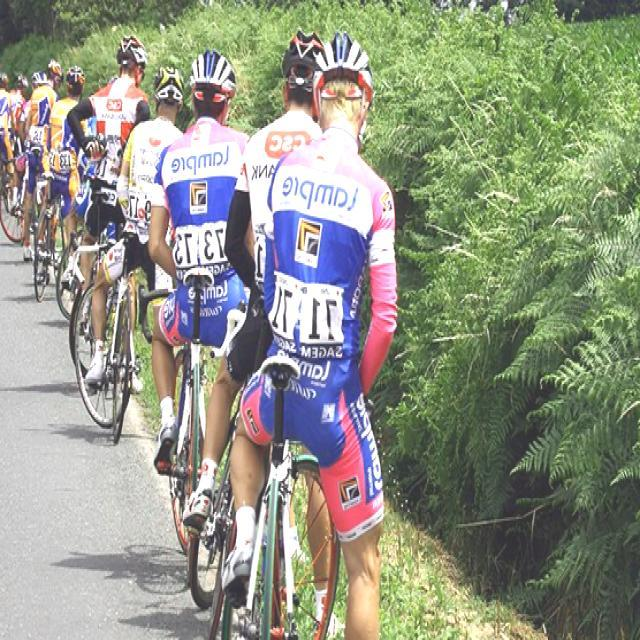Helmet: (308, 30, 386, 144), (184, 38, 238, 140), (112, 24, 154, 87), (61, 56, 93, 98)
